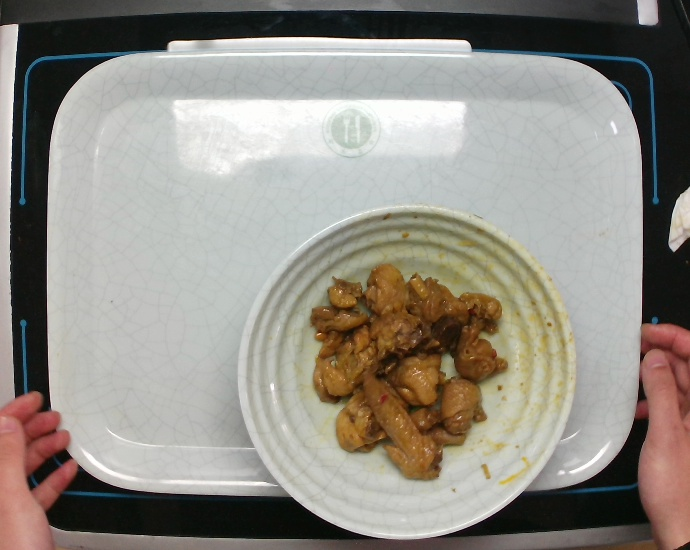JYsf-Da_Tang_Wan: (231, 200, 582, 544)
